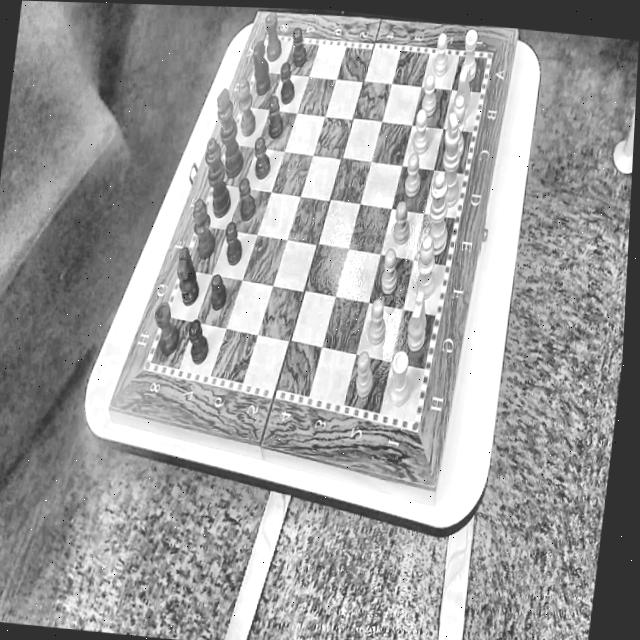chessboard: (151, 41, 486, 422)
